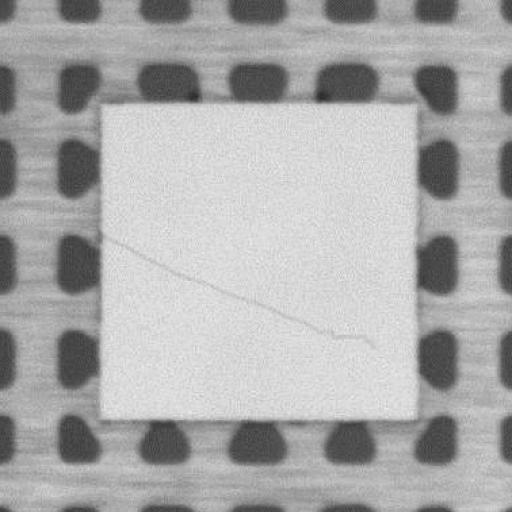DIE_CRACK: (101, 232, 378, 352)
